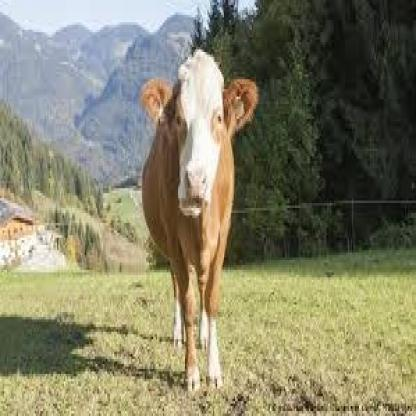cow: (140, 49, 259, 398)
